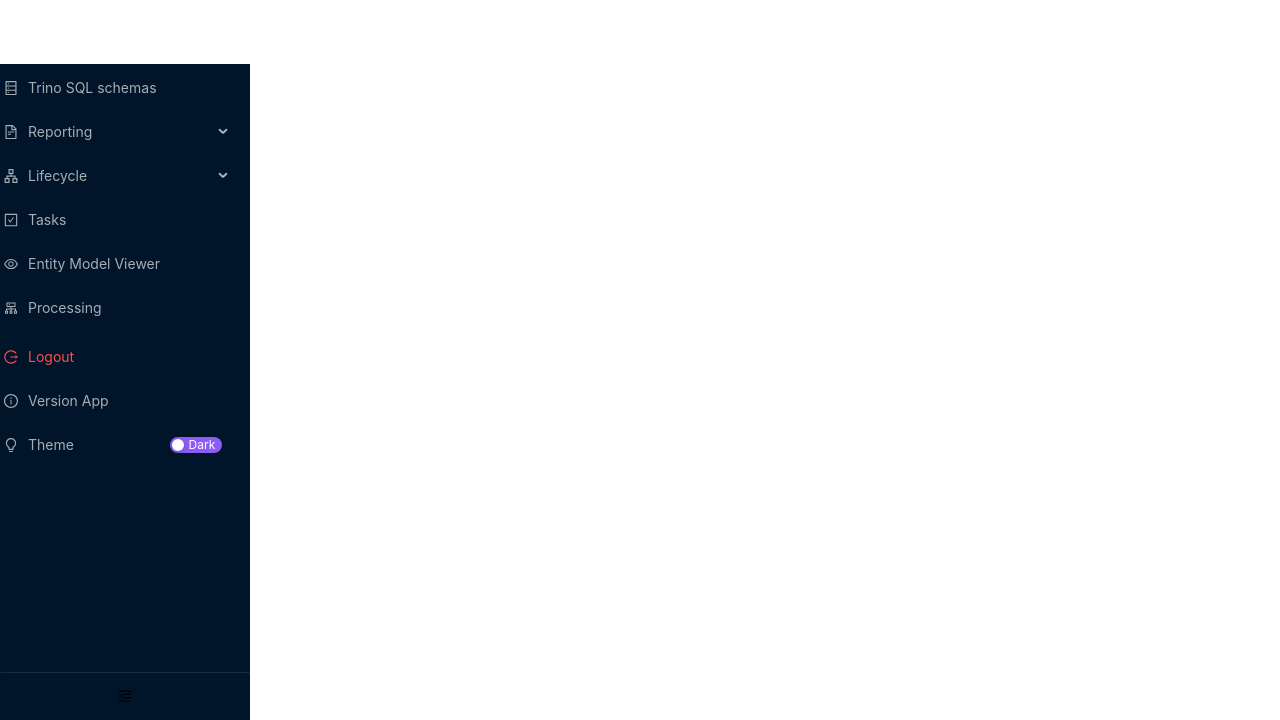
Test: LeftSideMenu › OIDC logout › Logout navigates to /login when the result is local
Click the menu item "Logout". click: point(39, 356)
box: [4, 348, 74, 365]
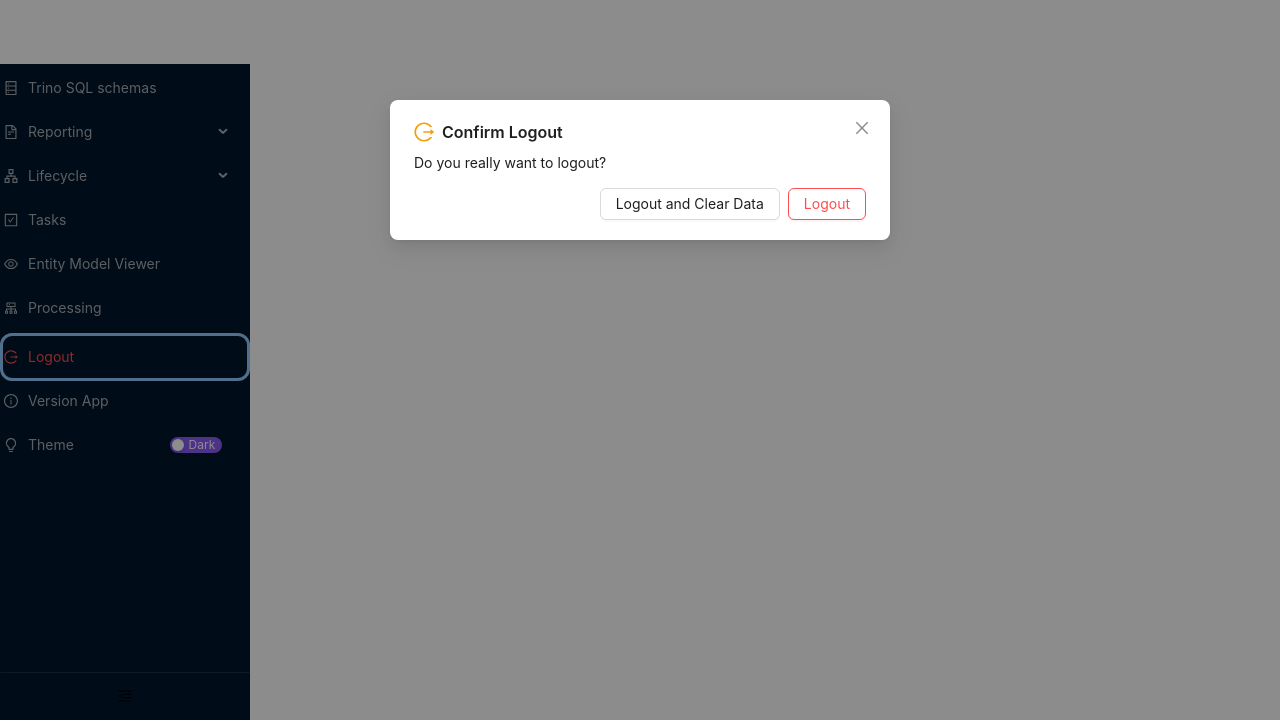
Now the text "Do you really want to logout?" is shown, box [414, 154, 606, 171]
Click the button "Logout". click: point(827, 204)
box: [788, 188, 866, 220]
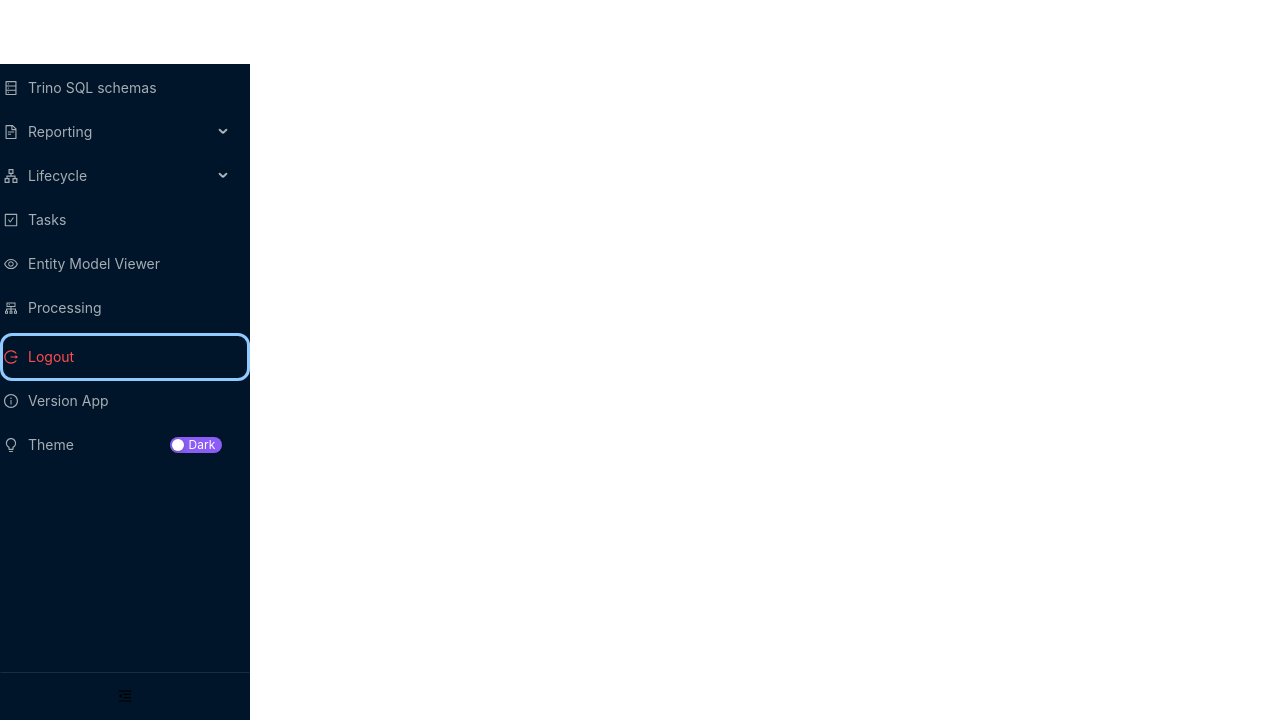
Now the text "Do you really want to logout?" is gone
